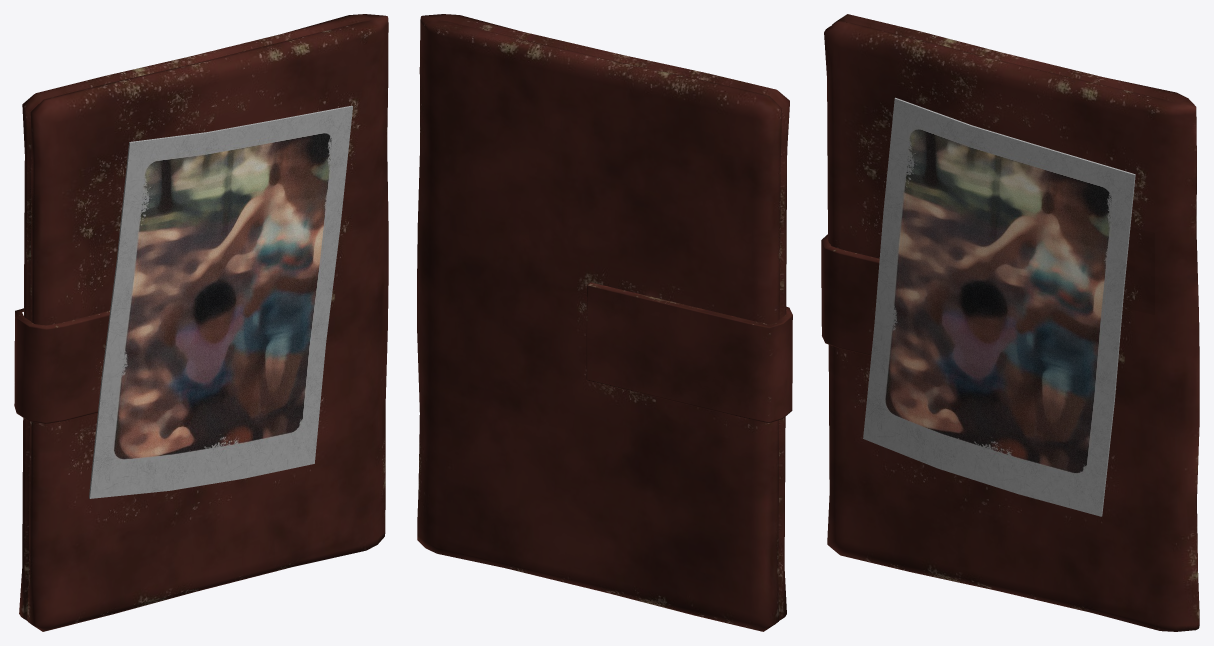
3 renders of one model, left to right at view 1: azimuth 30°, elevation 25°; view 2: azimuth 150°, elevation 25°; view 3: azimuth 330°, elevation 25°, orthographic.
Parts seen in each view (by area): view 1: ujnjdj_12345:main_Cube1.001; view 2: ujnjdj_12345:main_Cube1.001; view 3: ujnjdj_12345:main_Cube1.001.
Boxes of the visible parts, x1,y1,x2,y2 form: ujnjdj_12345:main_Cube1.001: (14,14,388,631); ujnjdj_12345:main_Cube1.001: (417,14,792,631); ujnjdj_12345:main_Cube1.001: (821,14,1199,631).
Size of the model in its own units: 0.0816 by 0.1129 by 0.0137.
Materials: 1 (1 with a texture image).
